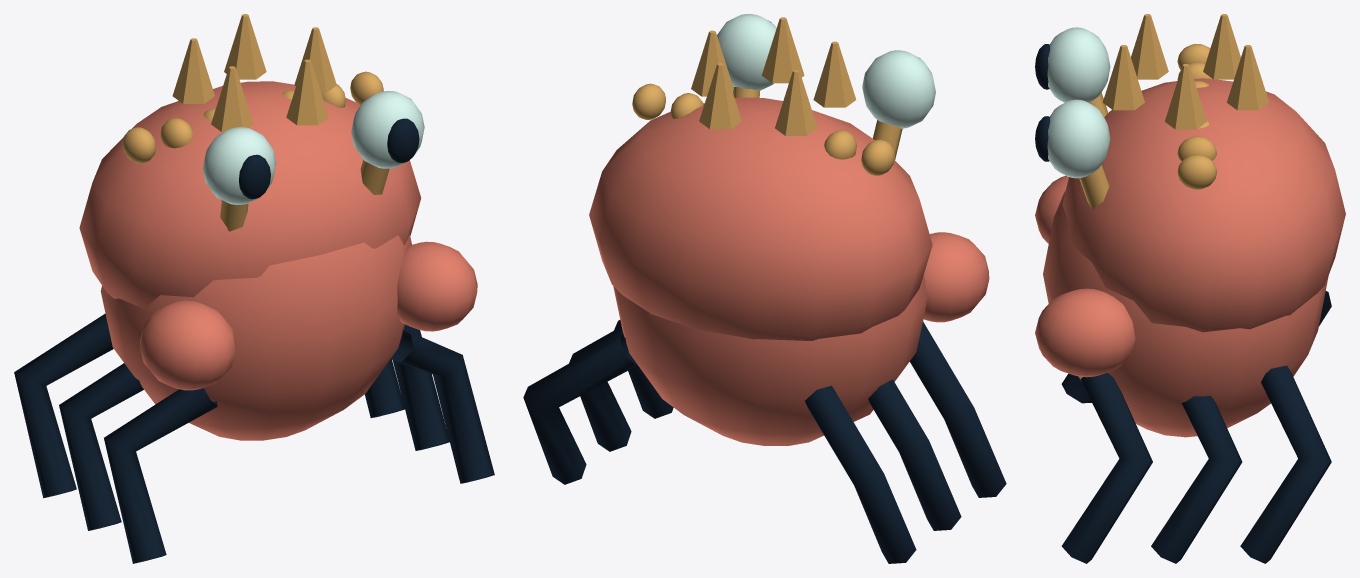
The model's file is boss.glb.
The picture shows the model from 3 angles, left to right: view 1: azimuth 30°, elevation 25°; view 2: azimuth 150°, elevation 25°; view 3: azimuth 270°, elevation 25°; orthographic projection.
Parts seen in each view (by area): view 1: boss; view 2: boss; view 3: boss.
Part boxes in pixels (x1=…): boss: x1=14, y1=14, x2=494, y2=563; boss: x1=523, y1=14, x2=1006, y2=563; boss: x1=1035, y1=14, x2=1345, y2=563.
Size of the model in its own units: 1.45 by 1.73 by 1.1.
